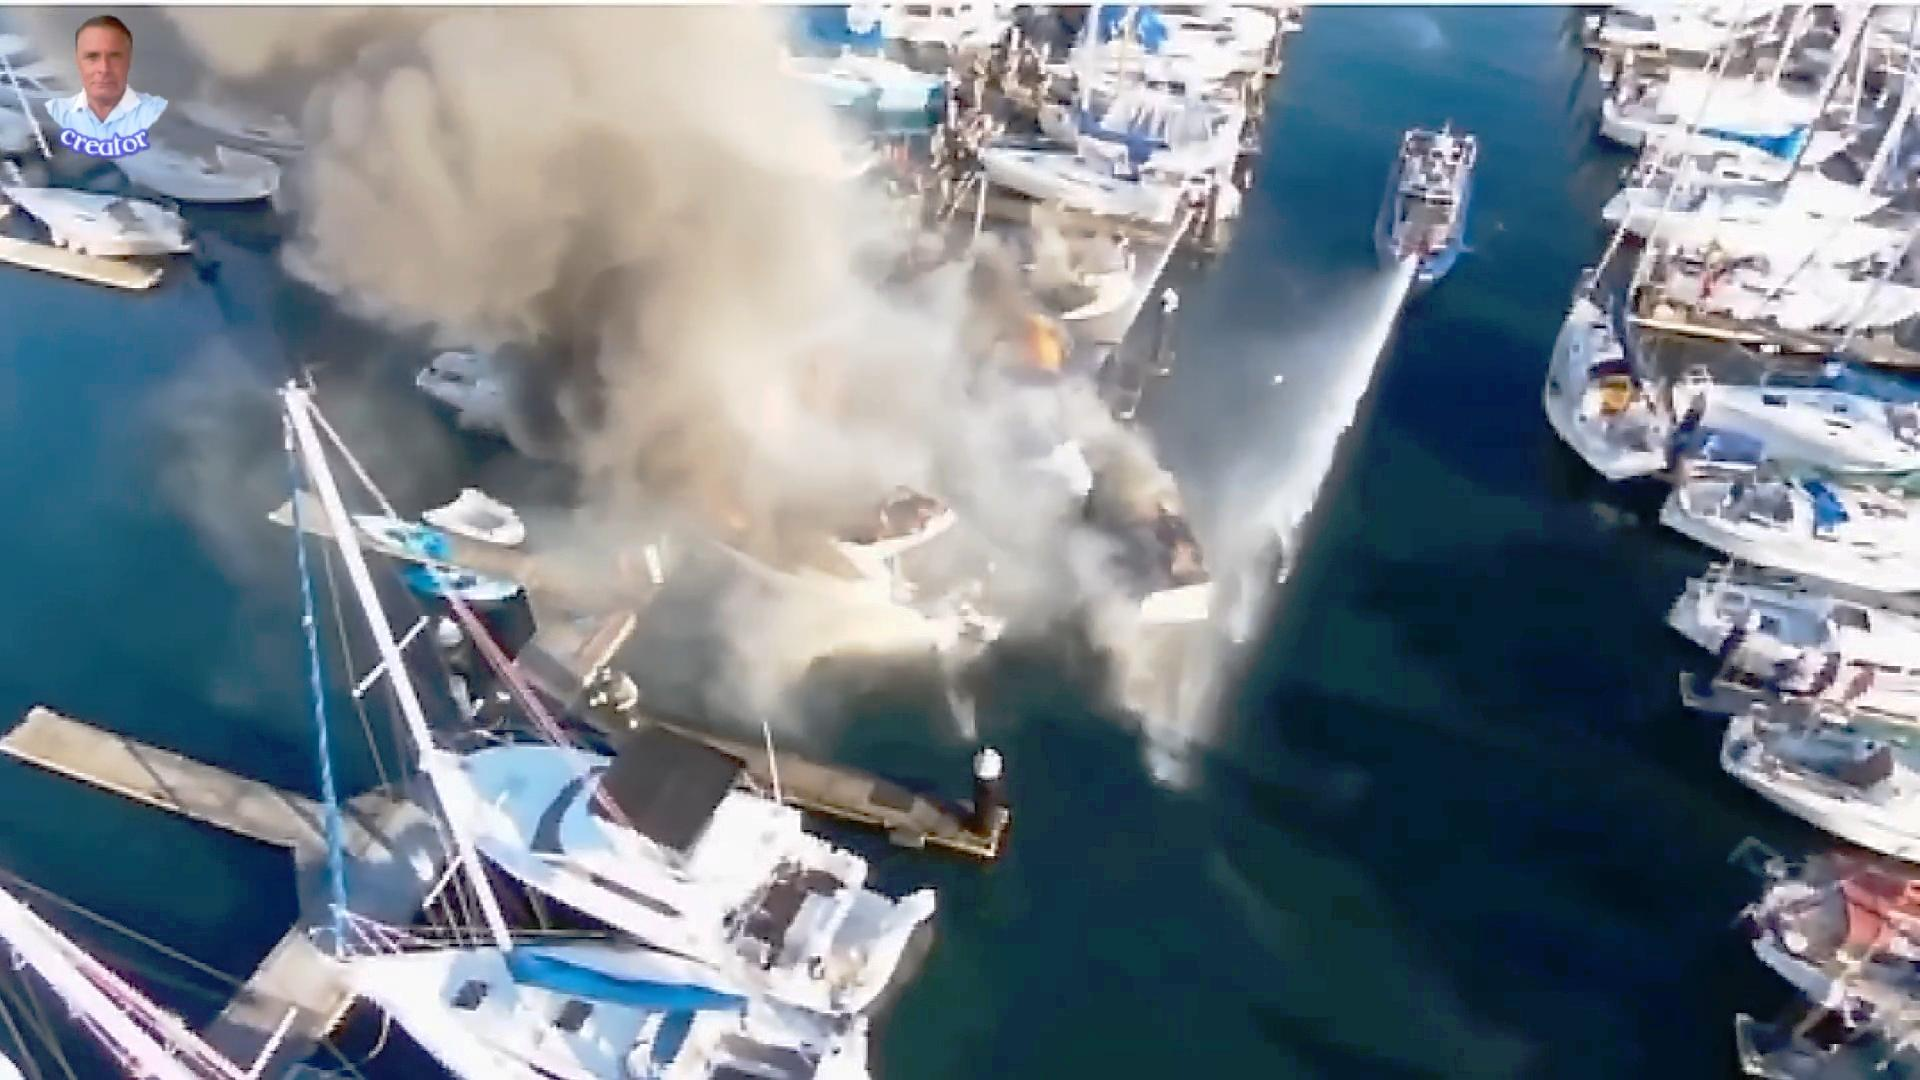smoke: (363, 21, 753, 443)
